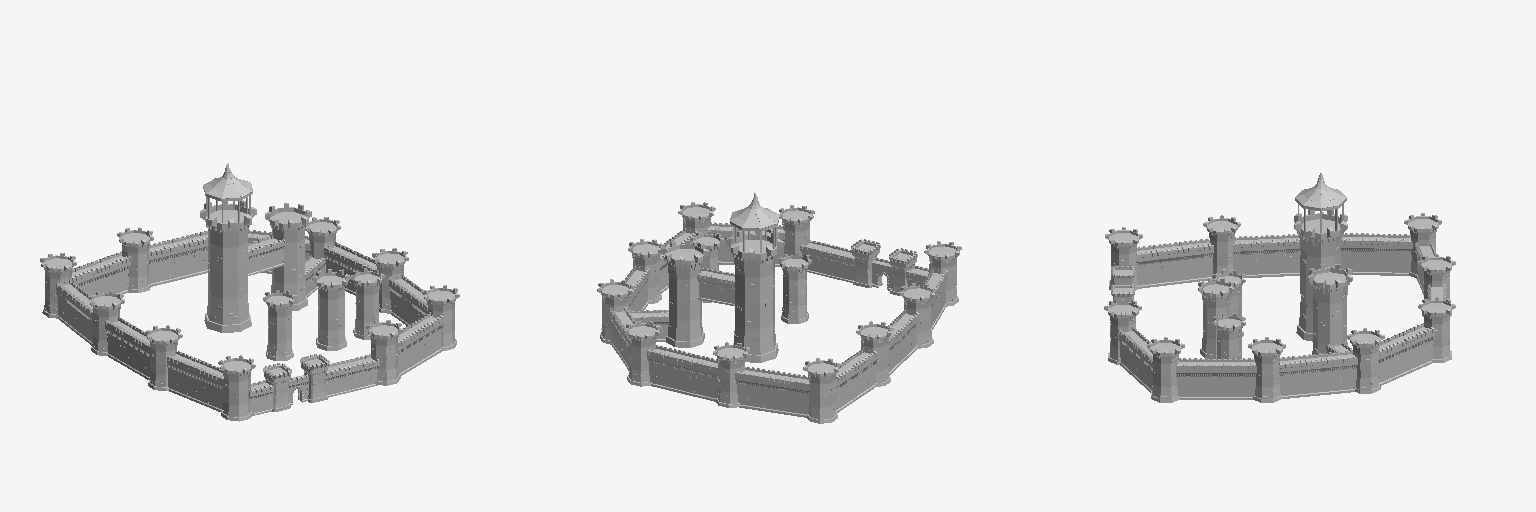
The model's file is castle.obj.
3 renders of one model, left to right at view 1: azimuth 30°, elevation 25°; view 2: azimuth 150°, elevation 25°; view 3: azimuth 270°, elevation 25°, orthographic.
Parts seen in each view (by area): view 1: Cylinder.002; view 2: Cylinder.002; view 3: Cylinder.002.
Boxes of the visible parts, box(x1,y1,x2,y2) form: Cylinder.002: box(40, 163, 459, 421); Cylinder.002: box(597, 193, 961, 423); Cylinder.002: box(1104, 173, 1455, 402).
Size of the model in its own units: 98.2 by 52.21 by 103.